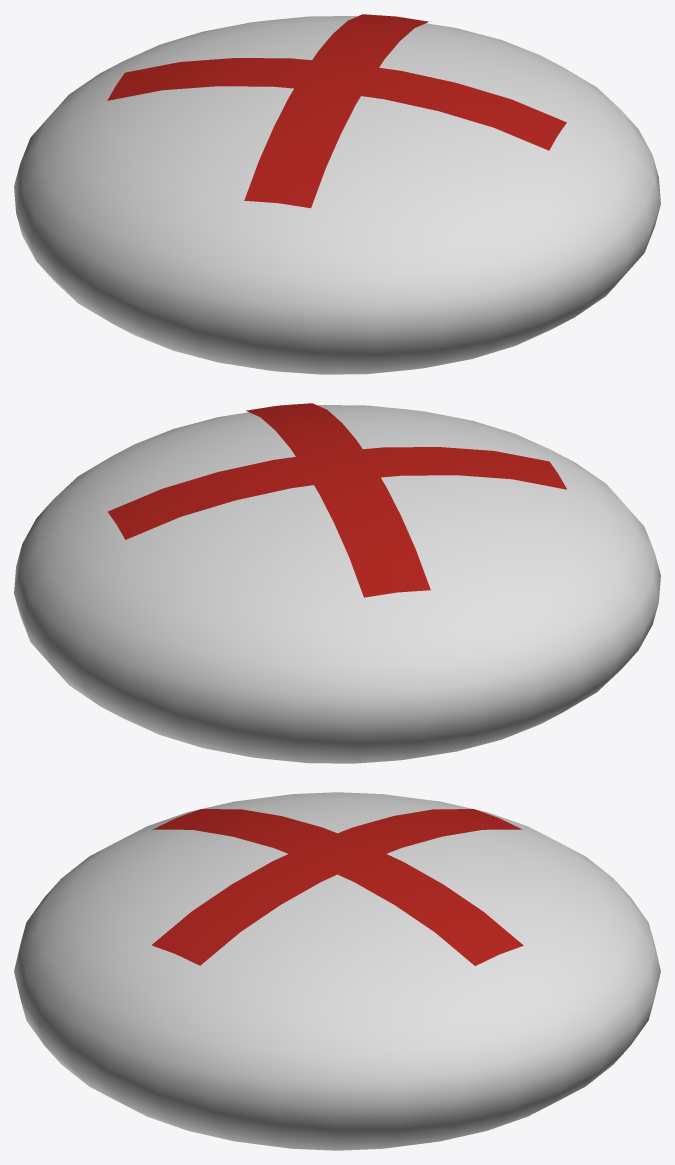
File: FakeStone_W.fbx
The picture shows the model from 3 angles, top to bottom: view 1: azimuth 30°, elevation 25°; view 2: azimuth 150°, elevation 25°; view 3: azimuth 270°, elevation 25°; orthographic projection.
Visible parts, largest first — view 1: FakeStone_W, Plane_W; view 2: FakeStone_W, Plane_W; view 3: FakeStone_W, Plane_W.
Part boxes in pixels (<box>): FakeStone_W: <box>14,16,660,374</box>; Plane_W: <box>107,14,566,208</box>; FakeStone_W: <box>14,405,660,763</box>; Plane_W: <box>108,403,566,597</box>; FakeStone_W: <box>14,792,660,1150</box>; Plane_W: <box>151,809,523,965</box>.
Bounding box in the file's own units: 200 × 80.5 × 200.
